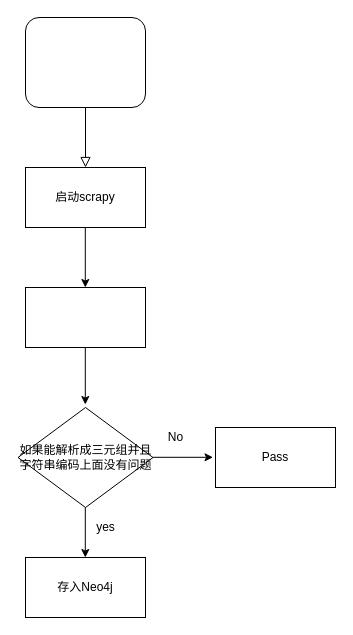
The diagram is 353 pixels wide and 635 high, and some of its shapes have lost their labels. Here are the shapes that lost their labels. From the top down, the centre of each, then its label:
At (x=85, y=62): "准备工作： 1、安装scrapy模块 2、安装MongoDB并配置为win服务 3、安装Neo4j 社区办".
At (x=85, y=317): "存入MongoDB".
